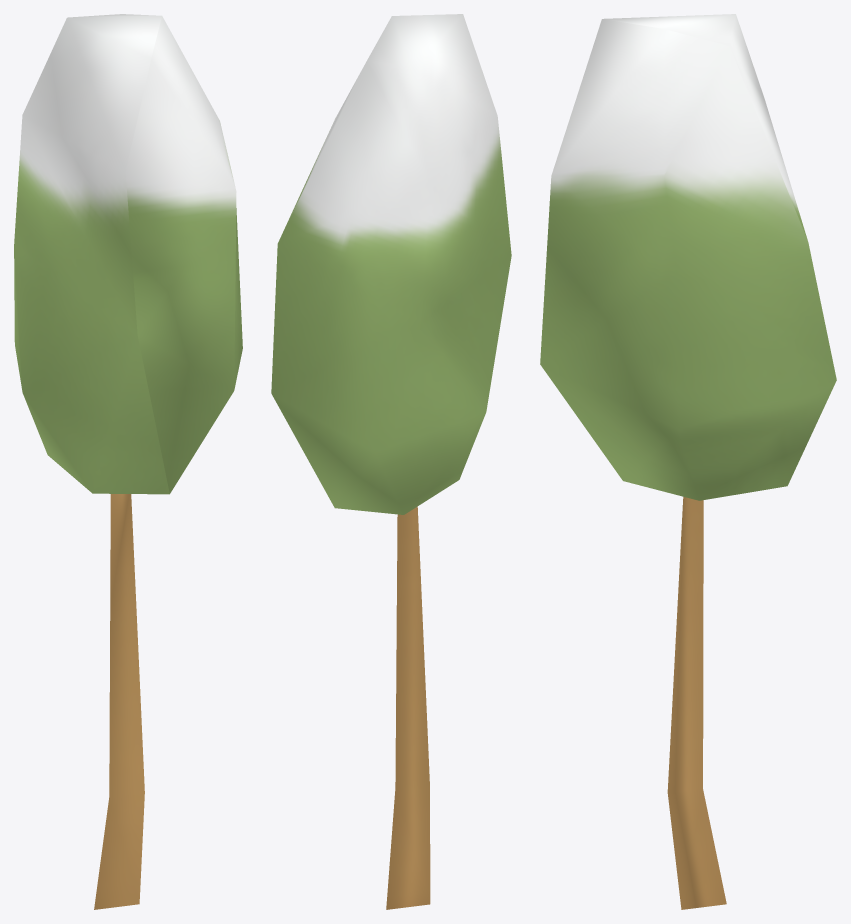
The picture shows the model from 3 angles, left to right: view 1: azimuth 30°, elevation 25°; view 2: azimuth 150°, elevation 25°; view 3: azimuth 270°, elevation 25°; orthographic projection. The views are drawn at different scales.
Visible parts, largest first — view 1: wLODPoros1; view 2: wLODPoros1; view 3: wLODPoros1.
Boxes of the visible parts, box(x1,y1,x2,y2) form: wLODPoros1: box(14, 14, 242, 909); wLODPoros1: box(271, 14, 511, 909); wLODPoros1: box(540, 14, 836, 909).
Size of the model in its own units: 2.39 by 9.85 by 2.98.
Materials: 1 (1 with a texture image).
